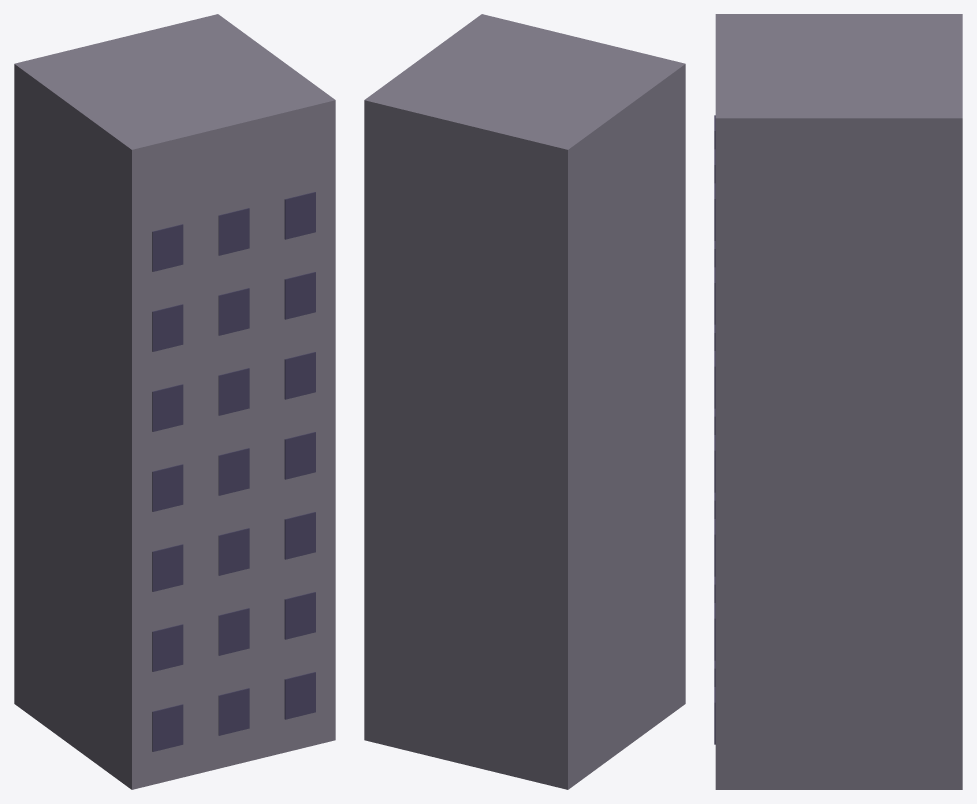
The model's file is distant-building-24m.glb.
3 views of the same model, side by side, from view 1: azimuth 30°, elevation 25°; view 2: azimuth 150°, elevation 25°; view 3: azimuth 270°, elevation 25° (orthographic). The views are drawn at different scales.
Visible parts, largest first — view 1: mass, window (×21); view 2: mass; view 3: mass.
Part boxes in pixels (<box>): mass: <box>14,14,335,789</box>; window (×21): <box>152,192,315,751</box>; mass: <box>364,14,685,789</box>; mass: <box>715,14,962,789</box>.
Bounding box in the file's own units: 8 × 24 × 8.04.
